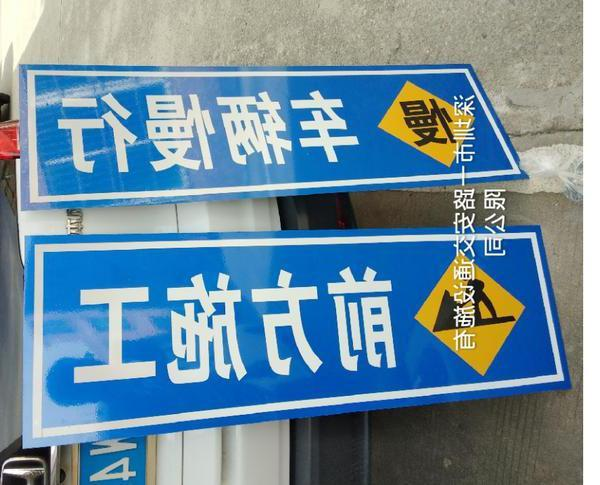sign: (27, 227, 565, 450), (17, 65, 524, 203)
